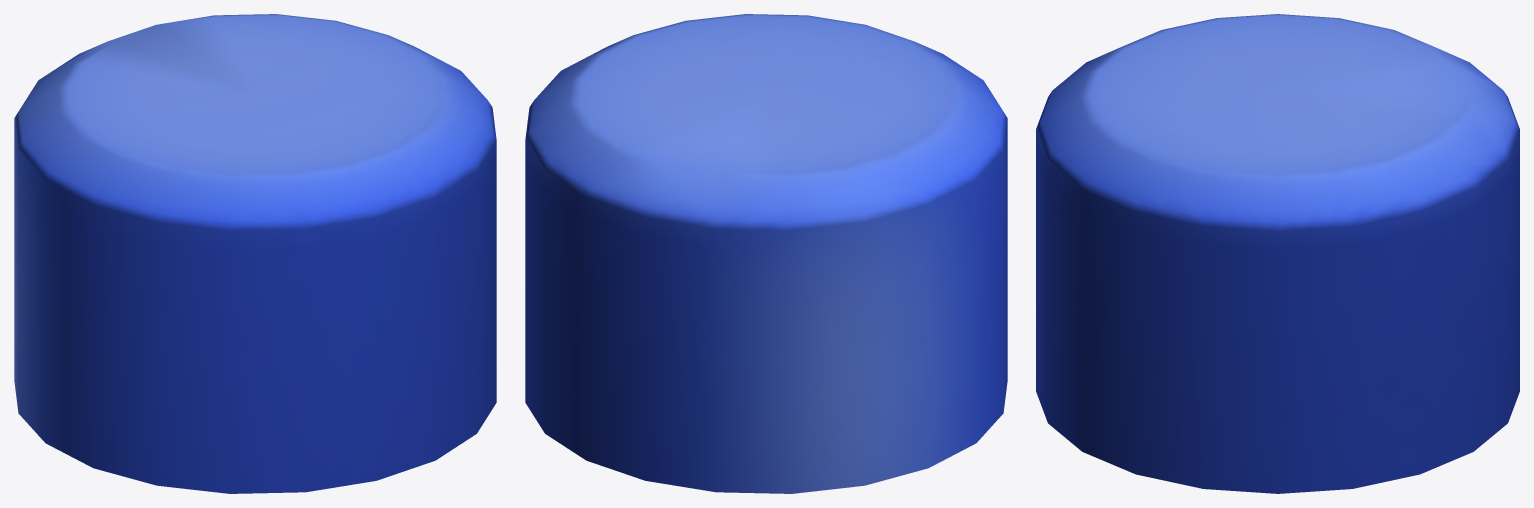
File: CommunityRoomB_BeerPongButtonB.fbx
3 renders of one model, left to right at view 1: azimuth 30°, elevation 25°; view 2: azimuth 150°, elevation 25°; view 3: azimuth 270°, elevation 25°, orthographic.
Parts seen in each view (by area): view 1: CommunityRoomB_BeerPongButtonB; view 2: CommunityRoomB_BeerPongButtonB; view 3: CommunityRoomB_BeerPongButtonB.
Boxes of the visible parts, x1=… form: CommunityRoomB_BeerPongButtonB: x1=14, y1=14, x2=496, y2=493; CommunityRoomB_BeerPongButtonB: x1=525, y1=14, x2=1007, y2=493; CommunityRoomB_BeerPongButtonB: x1=1036, y1=14, x2=1519, y2=493.
Bounding box in the file's own units: 5.24 × 3.55 × 5.24.
